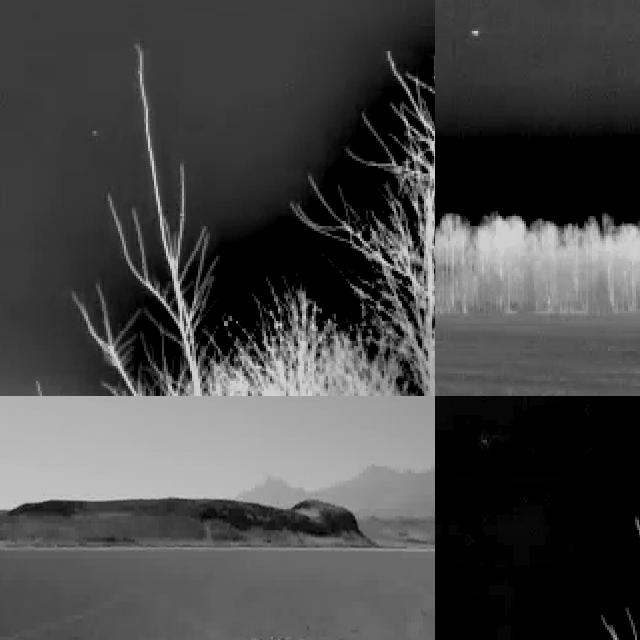0: (468, 430, 492, 458), (80, 125, 106, 145)
1: (458, 22, 486, 50)
drone: (246, 627, 316, 640)
